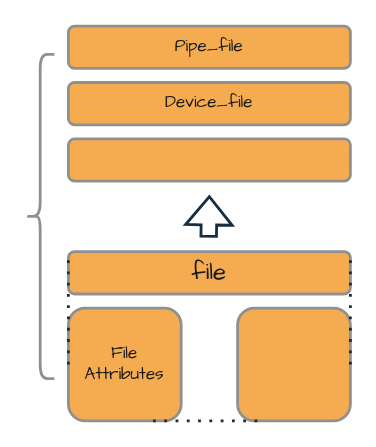
Image size: 376x447. Some labels were removed from this diagram. Here are the shapes that lost their labels. From the top down, the centre of each, then its label:
pixel 208 159: Normal_file
pixel 293 364: File Operations
